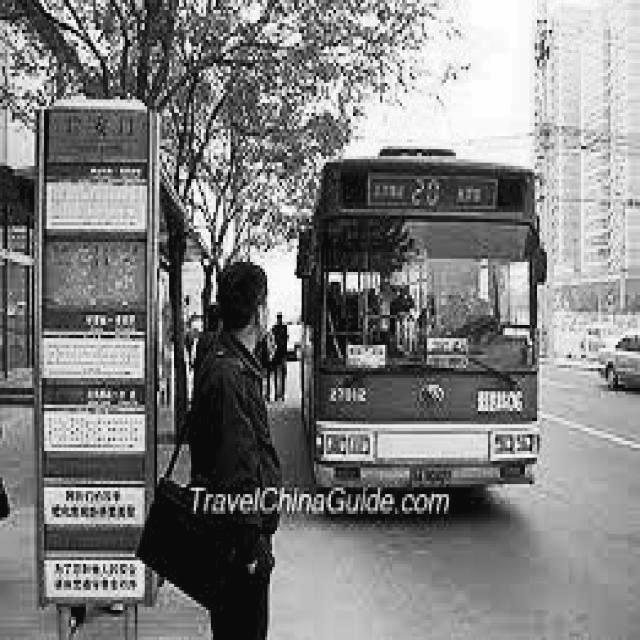Bus: (291, 136, 581, 520)
